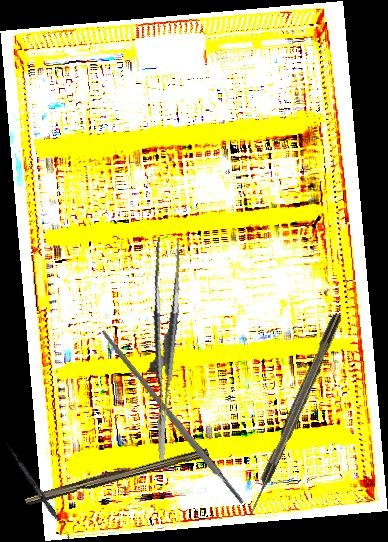Hook Surgical: (243, 312, 345, 519)
Scalpel Handle: (98, 328, 246, 507), (23, 442, 210, 509)
Spatula Surgical: (2, 441, 75, 541)
Tissue Forceps: (120, 236, 202, 461)
